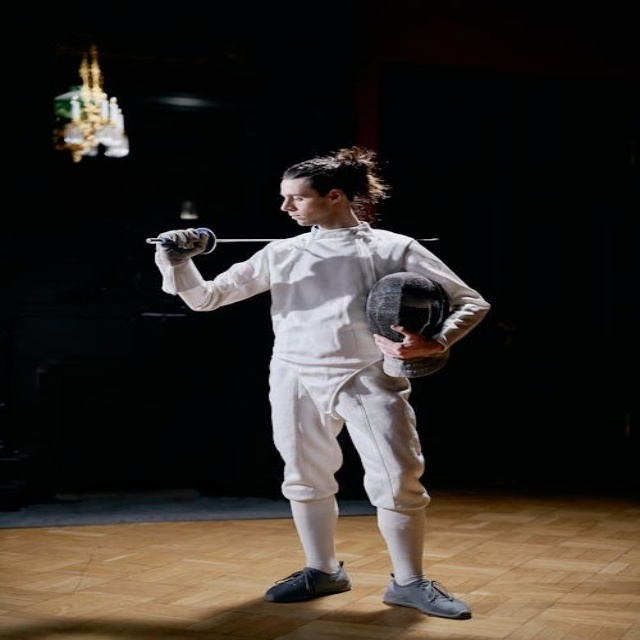Guantes: (154, 228, 212, 266)
Sin_gafas: (279, 191, 314, 205)
Sin_guantes: (374, 325, 443, 360)
Sin_mascara: (285, 212, 316, 224)
